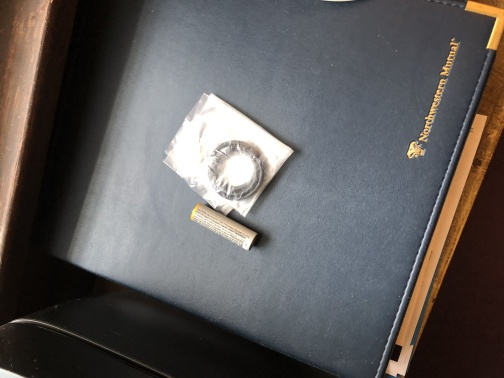battery: (187, 201, 265, 254)
